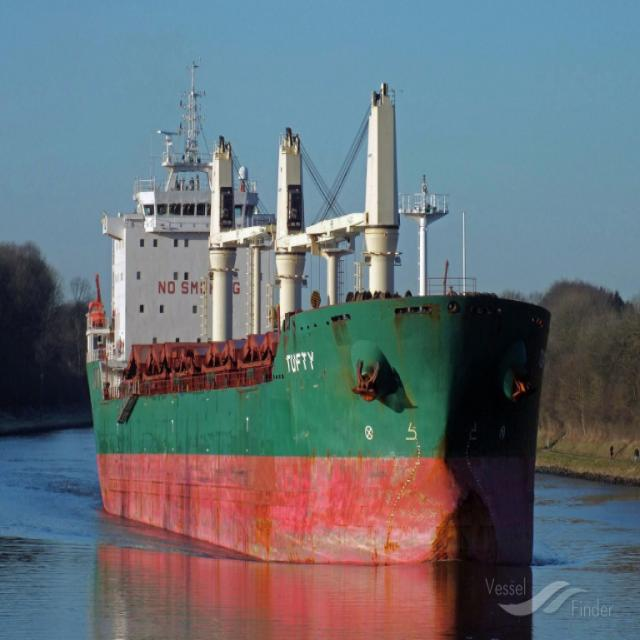OCR: (272, 336, 325, 379)
